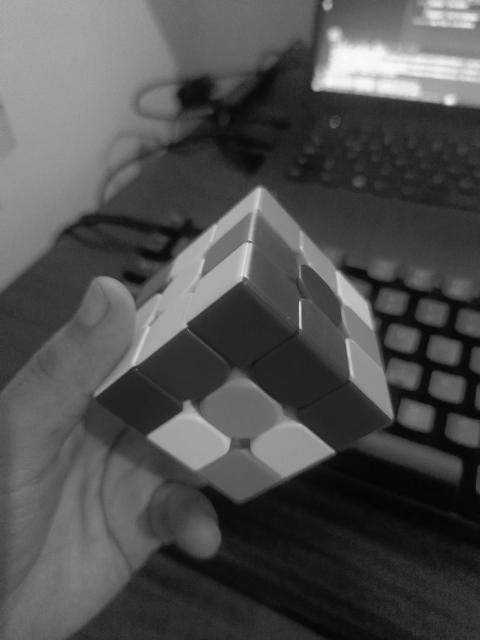rubik: (93, 184, 396, 506)
